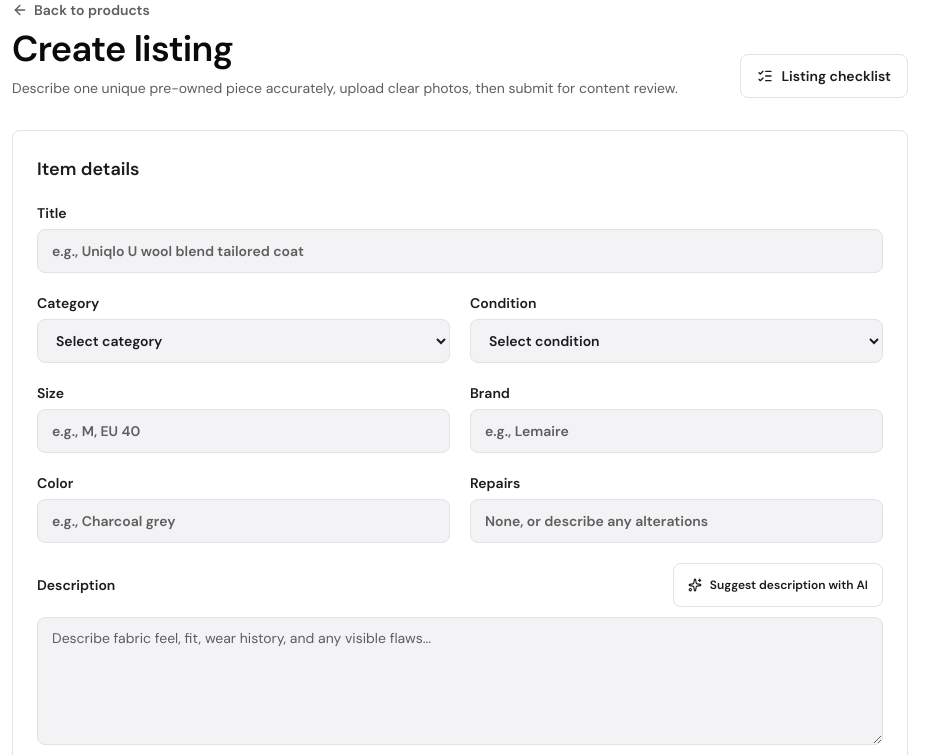
seller listing editor › shows a user-friendly error when Gemini AI suggestion fails
Type "Denim Jacket" into the field labelled "Title" at (460, 251), box [37, 229, 883, 273]
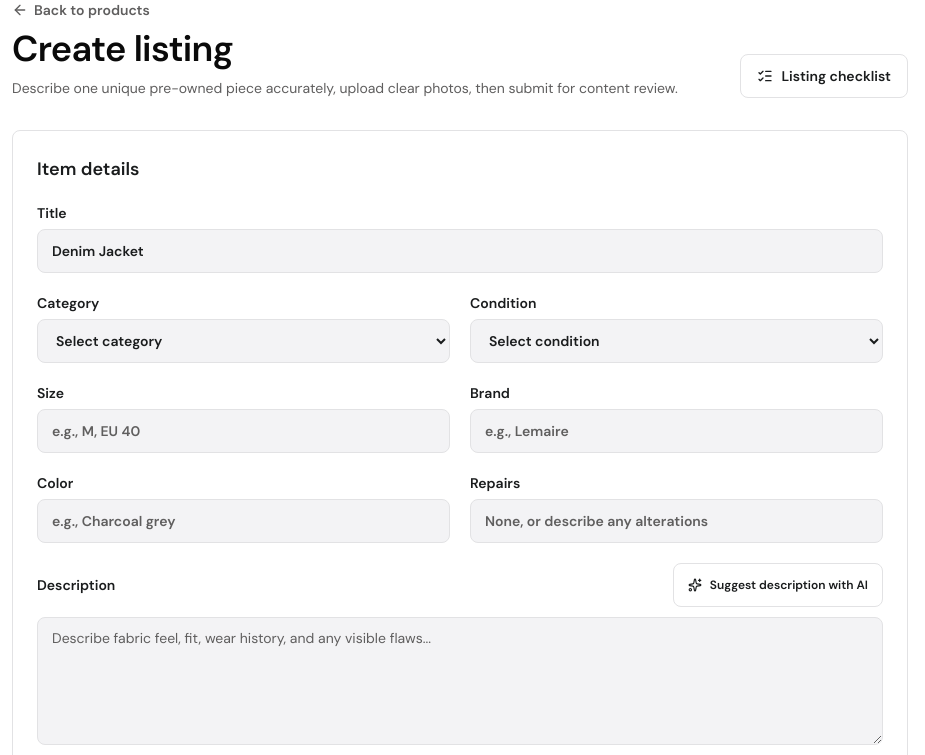
Click the button "Suggest description with AI" at (778, 585), box [673, 563, 883, 607]
(page scrolled)
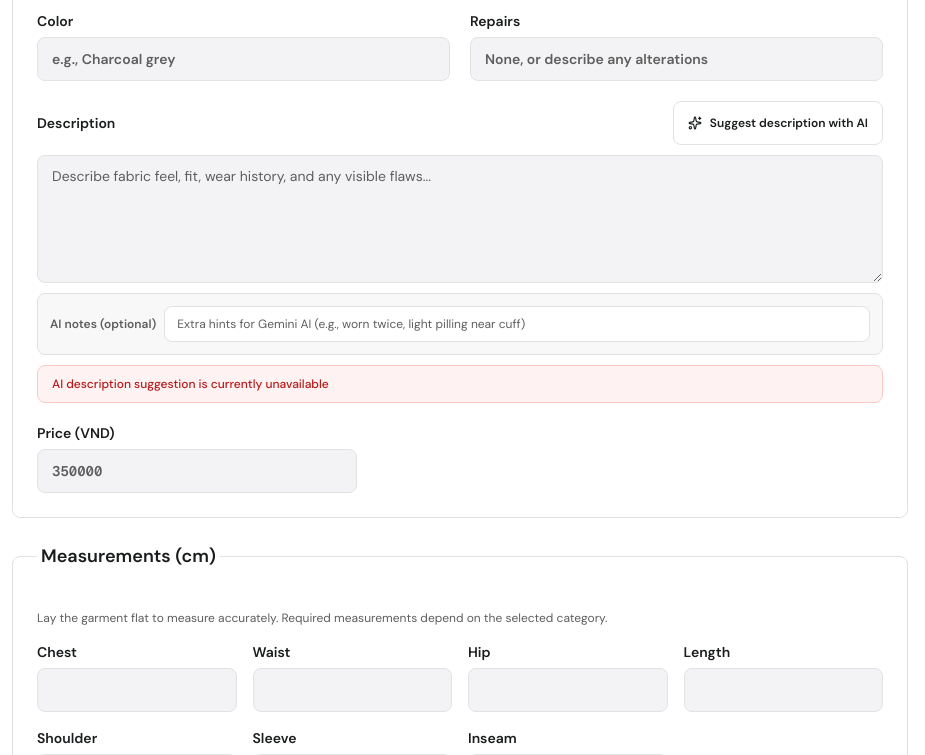
Expected: the message reads "AI description suggestion is currently unavailable", [52, 376, 329, 392]
